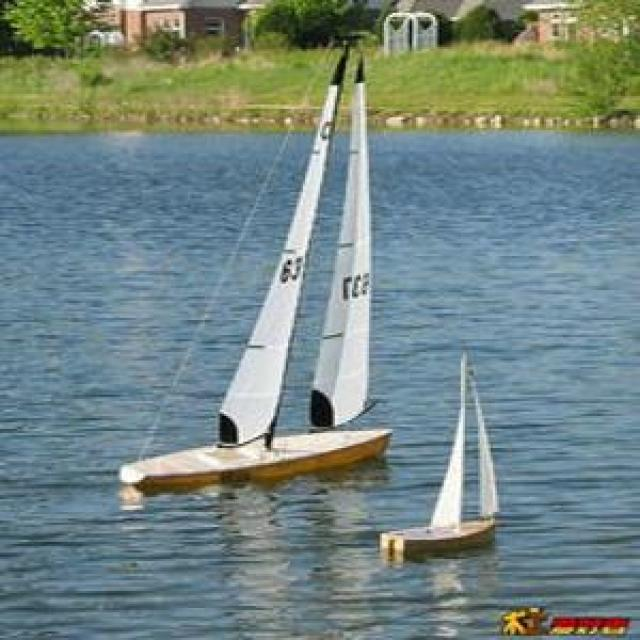sailboat: (124, 42, 392, 487), (384, 346, 503, 558)
